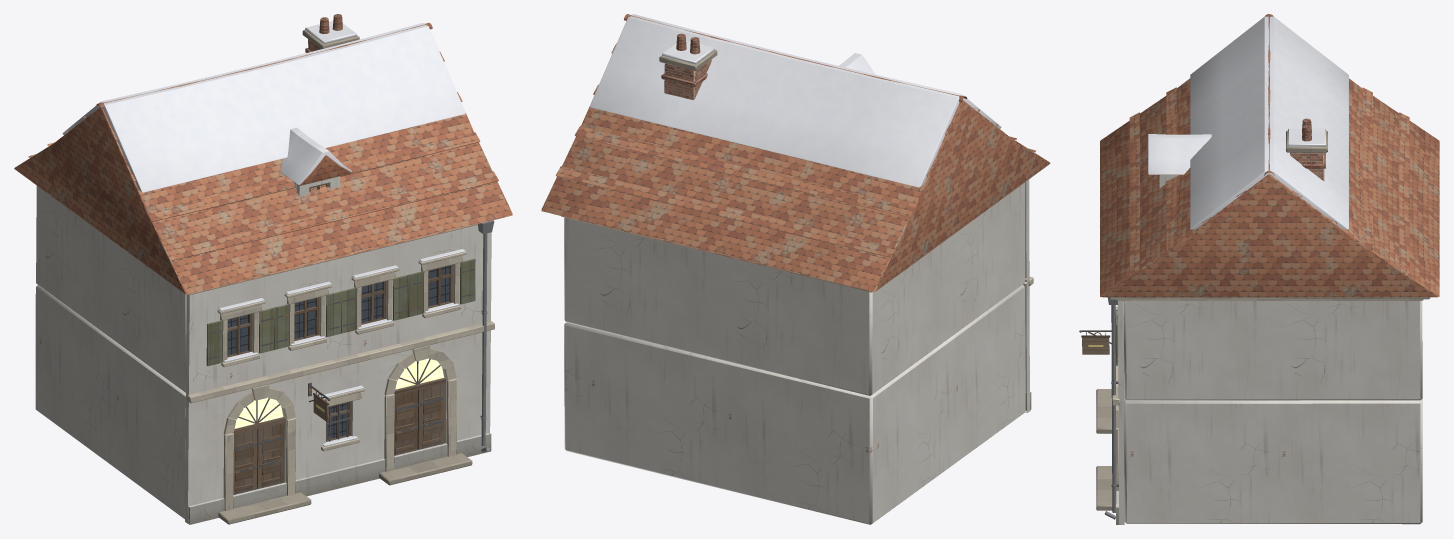
Rendered from kaz_house_a.glb.
3 renders of one model, left to right at view 1: azimuth 30°, elevation 25°; view 2: azimuth 150°, elevation 25°; view 3: azimuth 270°, elevation 25°, orthographic. The views are drawn at different scales.
Visible parts, largest first — view 1: kaz_house_a; view 2: kaz_house_a; view 3: kaz_house_a.
Boxes of the visible parts, x1,y1,x2,y2 form: kaz_house_a: [14, 14, 512, 524]; kaz_house_a: [541, 14, 1050, 524]; kaz_house_a: [1079, 14, 1439, 524].
Size of what is drawn, in the model's own units: 9.9 by 10.79 by 9.49.
17 materials, 16 textured.
